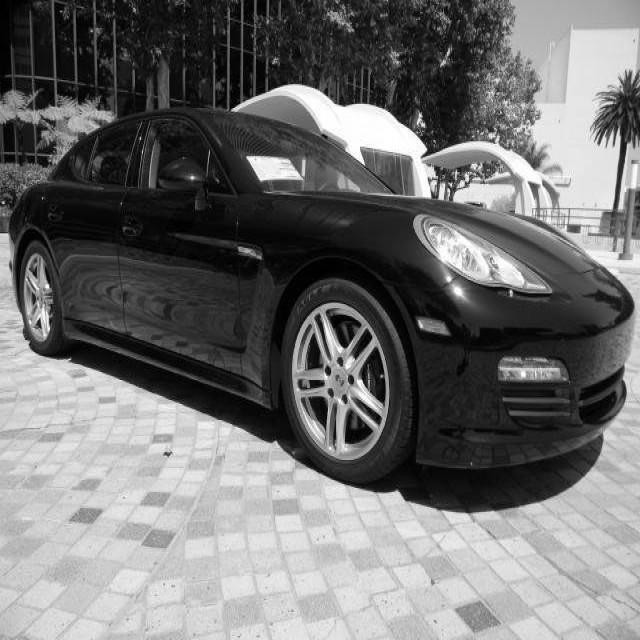car: (7, 104, 635, 485)
